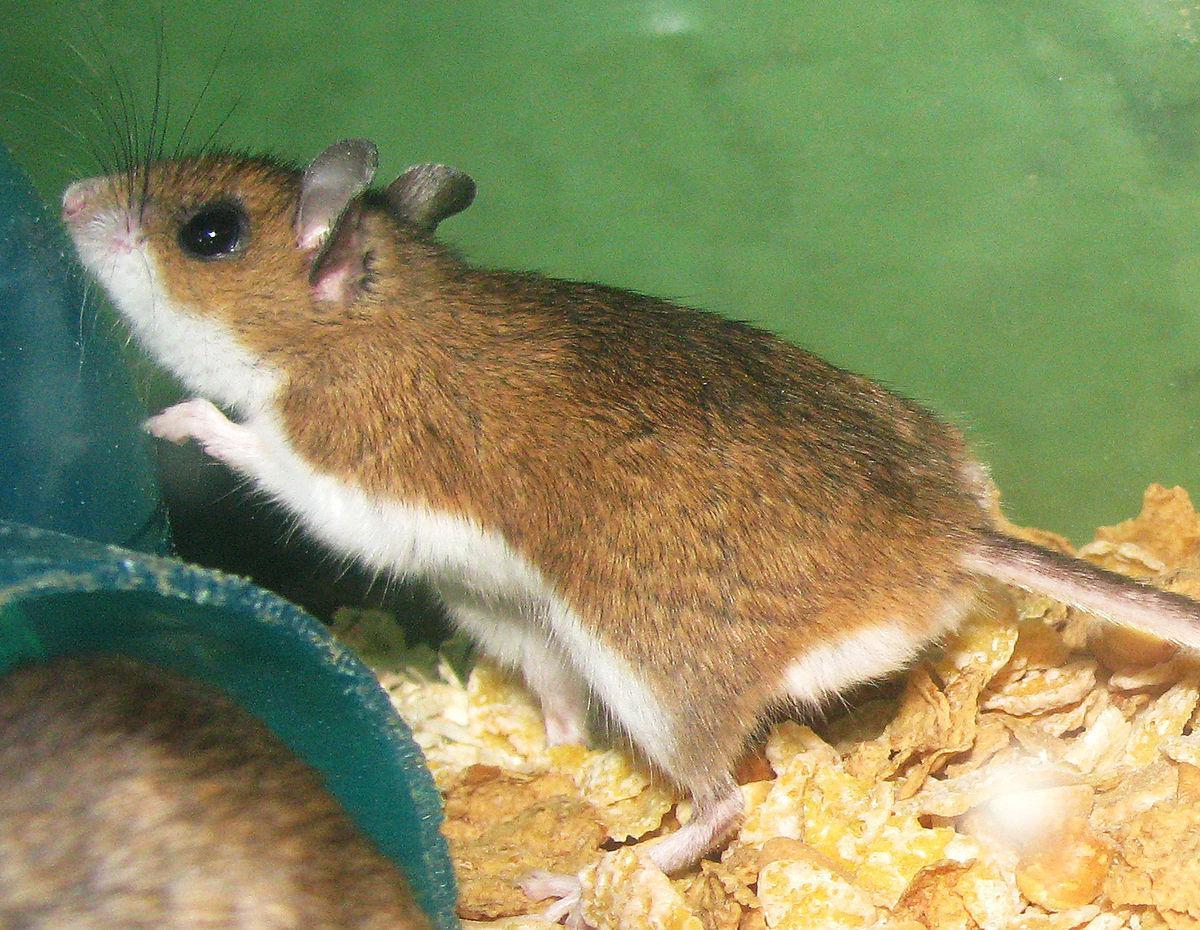rat: (66, 137, 1200, 876)
